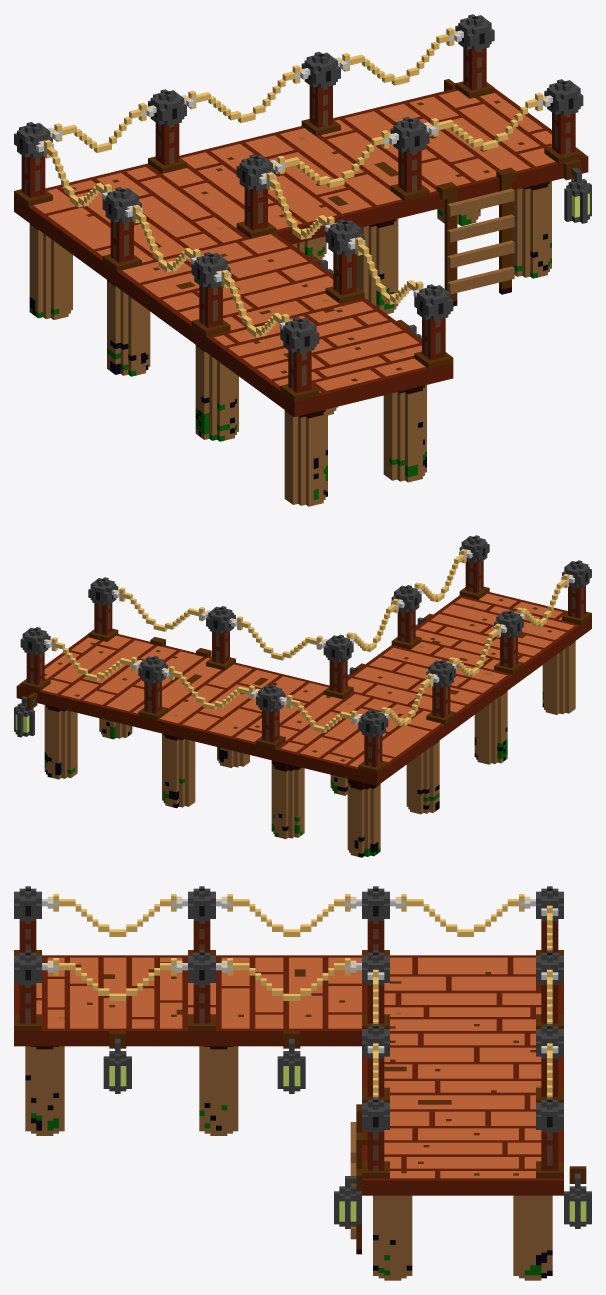
The model's file is Pontoon.obj.
3 renders of one model, top to bottom at view 1: azimuth 30°, elevation 25°; view 2: azimuth 150°, elevation 25°; view 3: azimuth 270°, elevation 25°, orthographic. The views are drawn at different scales.
Bounding box in the file's own units: 95 × 36 × 103.
1 material, 1 textured.
